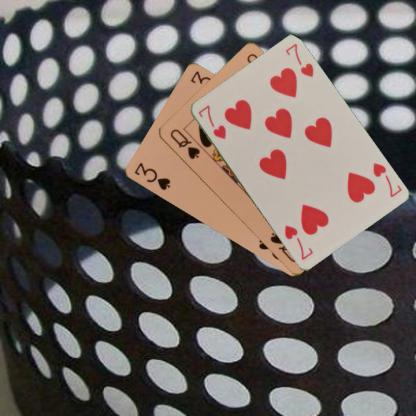3s: (131, 160, 172, 192)
7h: (195, 102, 227, 141), (370, 160, 402, 199)
Qs: (167, 126, 201, 161)
